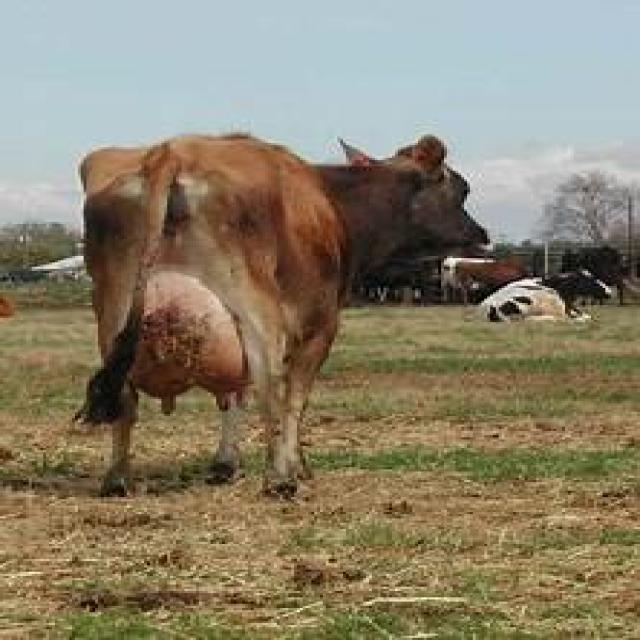cow: (73, 131, 495, 503), (473, 261, 621, 331)
